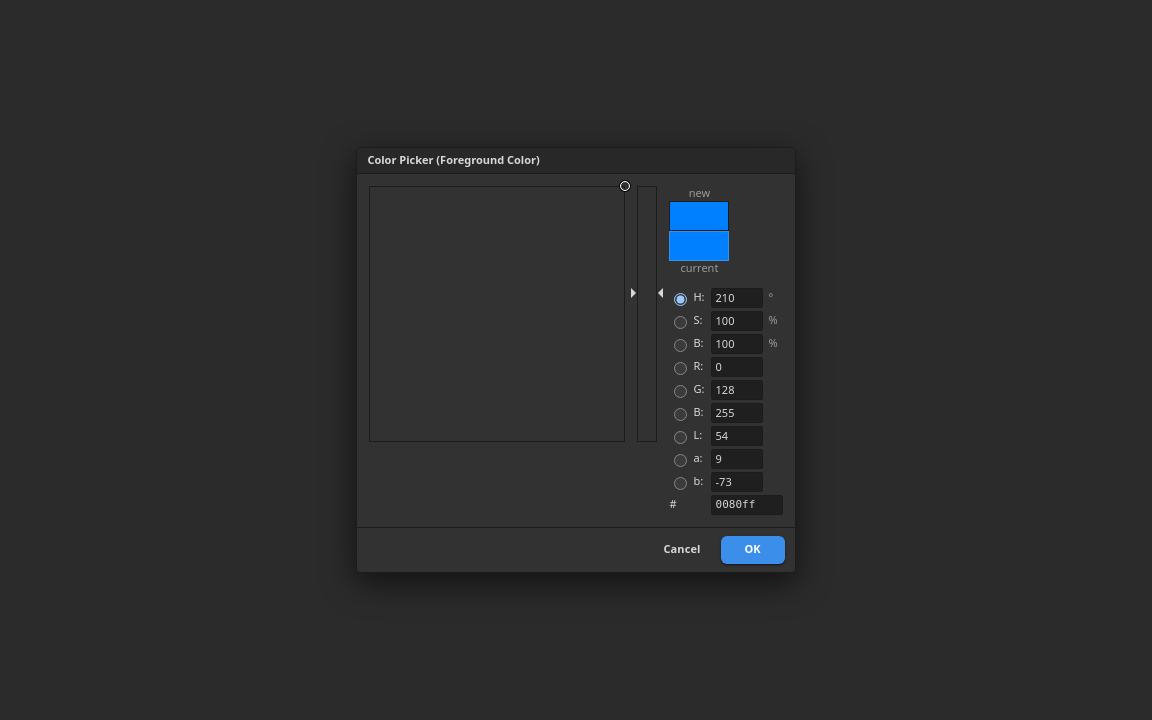
Test case: a gray keeps its hue, so that saturation brings the color back
The image size is (1152, 720).
Replace the text in the 2nd number field with "0": [736, 321] box [710,311,762,331]
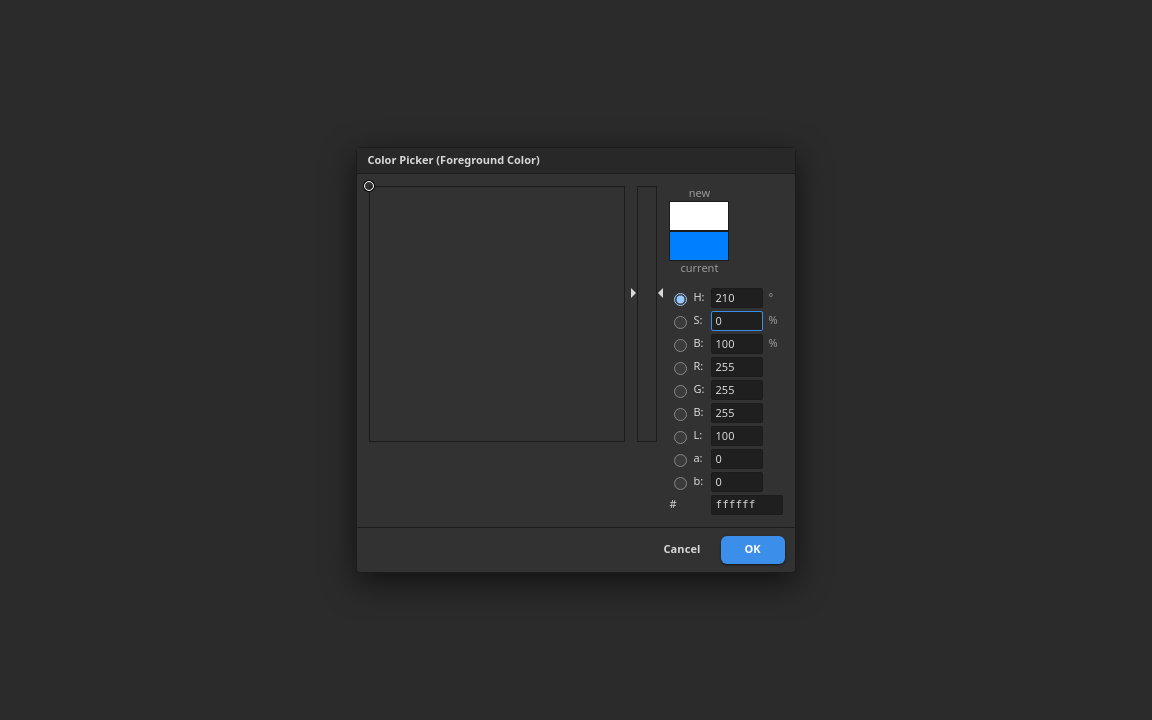
Expected: the 1st number field holds "210", [710,288,762,308]
Replace the text in the 2nd number field with "100": [736, 321] box [710,311,762,331]
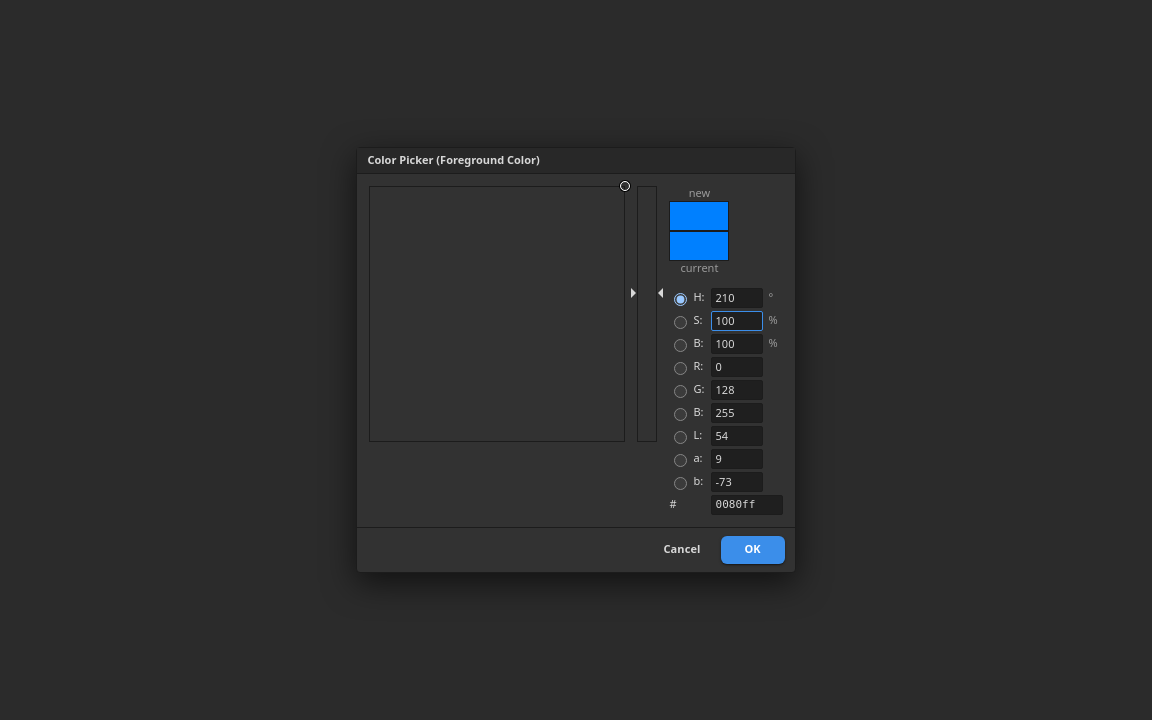
Result: the field holds "0080ff" at [710,495,782,515]
